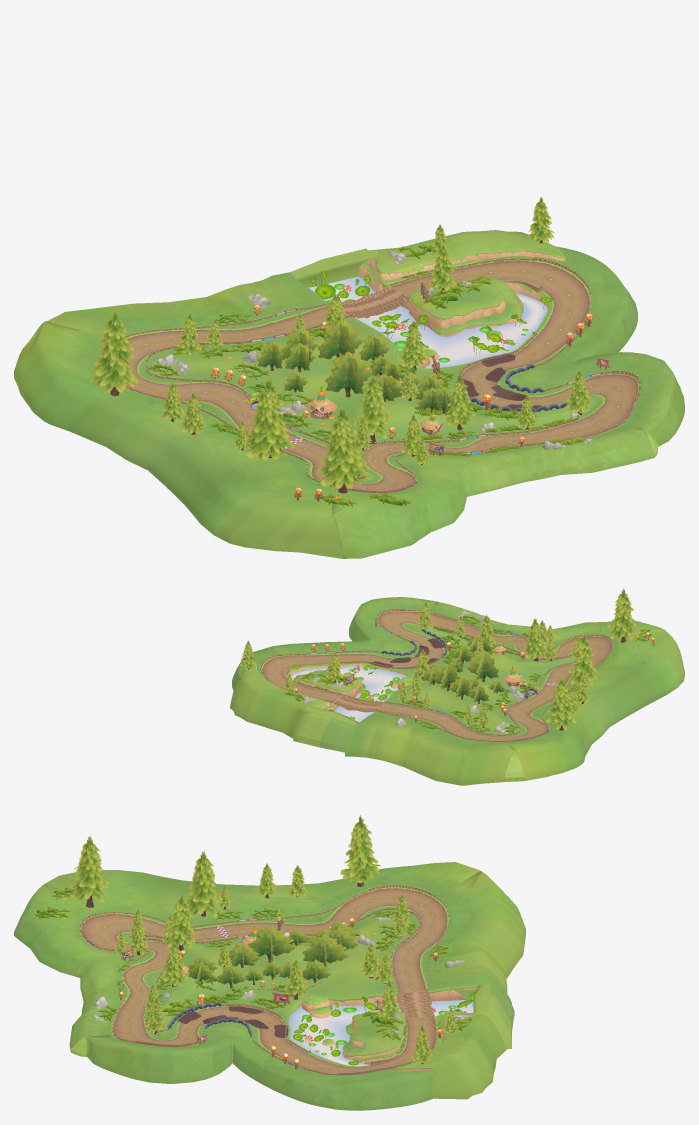
File: PistaDEF.glb
The picture shows the model from 3 angles, top to bottom: view 1: azimuth 30°, elevation 25°; view 2: azimuth 150°, elevation 25°; view 3: azimuth 270°, elevation 25°; orthographic projection. The views are drawn at different scales.
Visible parts, largest first — view 1: slsg_01_04, slsg_01_02, slsg_01_09, slsg_01_07, slsg_02_01, road_slsg_01_02, road_slsg_01_01, road_slsg_01_03, slsg_02_02, slsg_02_13, slsg_05_01, slsg_01_05 (+14 smaller); view 2: slsg_01_04, slsg_01_02, slsg_01_09, slsg_01_07, slsg_02_01, road_slsg_01_03, road_slsg_01_02, slsg_01_05, slsg_02_02, road_slsg_01_01, slsg_02_13, slsg_05_01 (+18 smaller); view 3: slsg_01_02, slsg_01_04, slsg_01_09, slsg_01_07, slsg_02_01, road_slsg_01_03, slsg_02_02, road_slsg_01_02, slsg_01_05, slsg_02_13, road_slsg_01_04, slsg_05_01 (+18 smaller).
Boxes of the visible parts, x1,y1,x2,y2 form: slsg_01_04: (14,259,342,558); slsg_01_02: (332,246,684,558); slsg_01_09: (142,318,599,482); slsg_01_07: (290,230,565,360); slsg_02_01: (257,320,453,413); road_slsg_01_02: (461,353,637,451); road_slsg_01_01: (391,261,589,361); road_slsg_01_03: (123,306,350,441); slsg_02_02: (242,374,429,476); slsg_02_13: (89,310,250,450); slsg_05_01: (308,276,547,368); slsg_01_05: (98,256,643,493); slsg_01_04: (319,630,684,785); slsg_01_02: (232,597,664,690); slsg_01_09: (385,624,576,735); slsg_01_07: (230,662,412,747); slsg_02_01: (422,636,504,703); road_slsg_01_03: (376,684,556,741); road_slsg_01_02: (367,611,514,668); slsg_01_05: (258,609,615,742); slsg_02_02: (522,618,597,685); road_slsg_01_01: (262,654,370,702); slsg_02_13: (463,672,589,730); slsg_05_01: (291,666,406,722); slsg_01_02: (14,884,433,1110); slsg_01_04: (44,862,525,1030); slsg_01_09: (123,908,414,1039); slsg_01_07: (304,985,511,1099); slsg_02_01: (188,920,358,988); road_slsg_01_03: (222,888,446,992); slsg_02_02: (115,850,222,955); road_slsg_01_02: (113,979,284,1044); slsg_01_05: (76,884,452,1075); slsg_02_13: (218,815,411,937); road_slsg_01_04: (81,914,223,979); slsg_05_01: (288,1000,473,1066).
Bounding box in the file's own units: 5.7 × 0.9566 × 5.47.
Materials: 14 (10 with a texture image).
